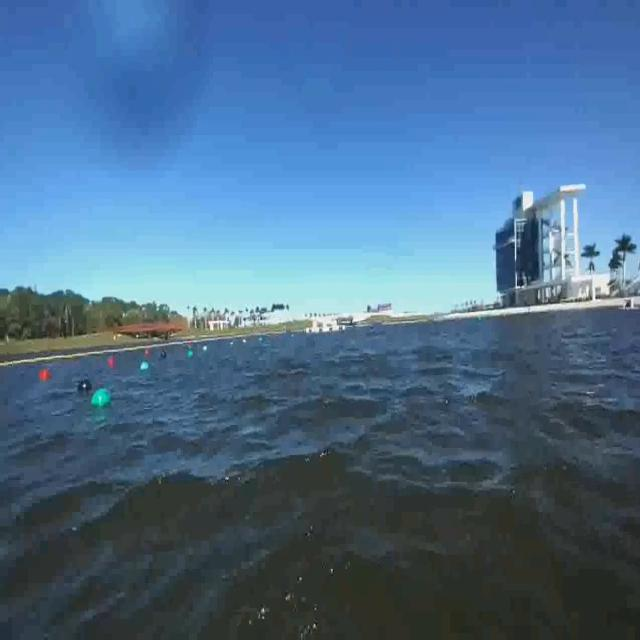black-buoy: (77, 380, 91, 394)
green-buoy: (90, 392, 110, 412), (141, 359, 150, 372), (186, 349, 192, 360)
red-buoy: (40, 368, 50, 380)
